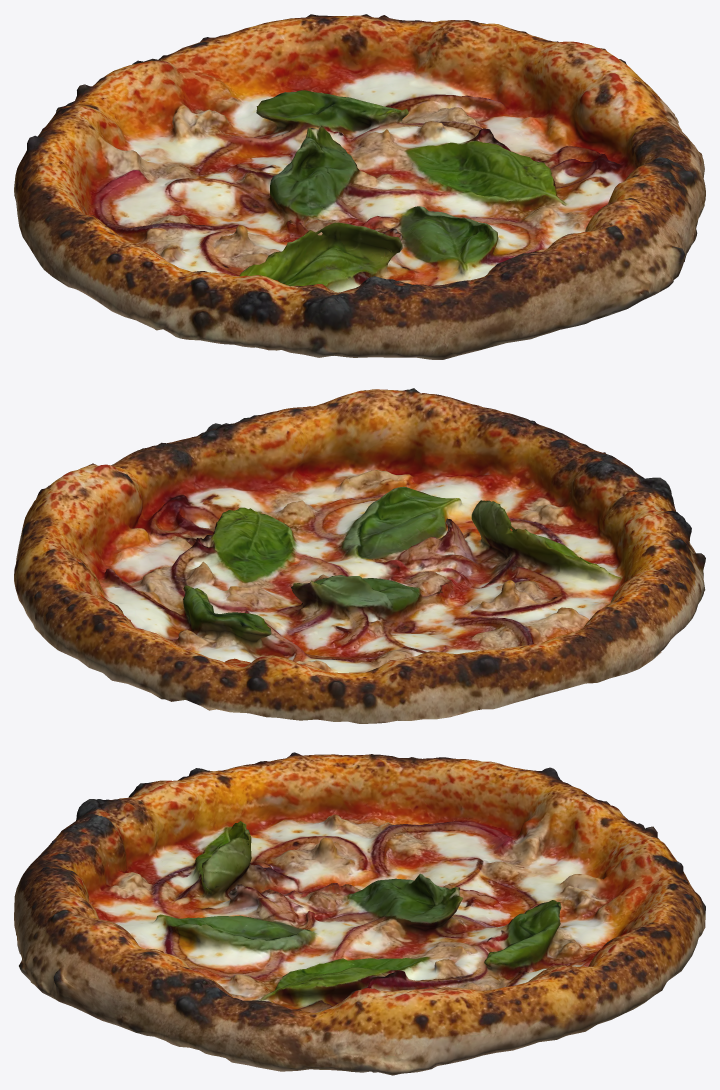
File: tonbaliklipizza.glb
3 views of the same model, one above another, from view 1: azimuth 30°, elevation 25°; view 2: azimuth 150°, elevation 25°; view 3: azimuth 270°, elevation 25° (orthographic). The views are drawn at different scales.
Size of the model in its own units: 0.9138 by 0.113 by 0.9084.
Materials: 1 (1 with a texture image).
